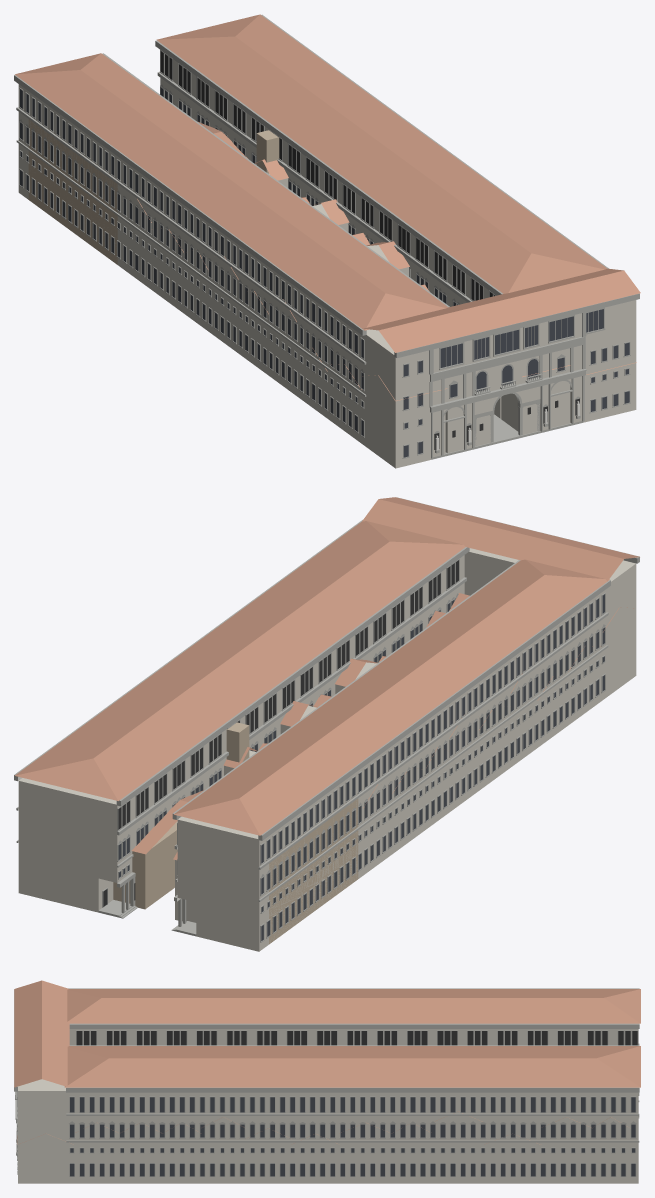
The model's file is uffizi.glb.
The picture shows the model from 3 angles, top to bottom: view 1: azimuth 30°, elevation 25°; view 2: azimuth 150°, elevation 25°; view 3: azimuth 270°, elevation 25°; orthographic projection. The views are drawn at different scales.
Parts seen in each view (by area): view 1: east_top@1580-99999.roof, west_top@1580-99999.roof, west@1565-99999.plaster, arno@1565-99999.plaster, west@1565-99999.stone, west_top@1580-99999.stone, arno_top@1580-99999.roof, east_top@1580-99999.stone, arno@1565-99999.stone, west@1565-99999.glass, old_quarter@1100-1560.rubble, west_top@1580-99999.plaster (+12 smaller); view 2: east_top@1580-99999.roof, west_top@1580-99999.roof, west@1565-99999.plaster, east@1572-99999.plaster, west@1565-99999.stone, west_top@1580-99999.stone, old_quarter@1100-1560.rubble, east_top@1580-99999.stone, arno_top@1580-99999.roof, west_top@1580-99999.plaster, west@1565-99999.glass, east_top@1580-99999.plaster (+8 smaller); view 3: east@1572-99999.plaster, east_top@1580-99999.roof, west_top@1580-99999.roof, east@1572-99999.stone, east@1572-99999.glass, east_top@1580-99999.stone, east_top@1580-99999.plaster, west_top@1580-99999.stone, arno_top@1580-99999.roof, west_top@1580-99999.dark, east_top@1580-99999.glass, west_top@1580-99999.plaster (+2 smaller).
Boxes of the visible parts, x1,y1,x2,y2 form: east_top@1580-99999.roof: (156, 14, 606, 293); west_top@1580-99999.roof: (15, 53, 448, 330); west@1565-99999.plaster: (18, 112, 365, 446); arno@1565-99999.plaster: (366, 327, 636, 468); west@1565-99999.stone: (16, 119, 366, 437); west_top@1580-99999.stone: (14, 53, 449, 364); arno_top@1580-99999.roof: (362, 268, 640, 352); east_top@1580-99999.stone: (155, 14, 608, 302); arno@1565-99999.stone: (402, 336, 630, 459); west@1565-99999.glass: (20, 122, 363, 435); old_quarter@1100-1560.rubble: (28, 115, 279, 264); west_top@1580-99999.plaster: (18, 84, 378, 361); east_top@1580-99999.roof: (15, 521, 465, 800); west_top@1580-99999.roof: (174, 559, 609, 835); west@1565-99999.plaster: (177, 617, 606, 951); east@1572-99999.plaster: (18, 583, 464, 912); west@1565-99999.stone: (171, 624, 608, 942); west_top@1580-99999.stone: (172, 560, 610, 869); old_quarter@1100-1560.rubble: (113, 722, 358, 944); east_top@1580-99999.stone: (14, 520, 469, 835); arno_top@1580-99999.roof: (362, 497, 639, 581); west_top@1580-99999.plaster: (177, 589, 606, 868); west@1565-99999.glass: (261, 627, 604, 940); east_top@1580-99999.plaster: (18, 555, 464, 834); east@1572-99999.plaster: (67, 1116, 638, 1183); east_top@1580-99999.roof: (64, 1046, 640, 1087); west_top@1580-99999.roof: (67, 989, 640, 1023); east@1572-99999.stone: (66, 1100, 639, 1176); east@1572-99999.glass: (70, 1124, 635, 1176); east_top@1580-99999.stone: (66, 1045, 639, 1115); east_top@1580-99999.plaster: (67, 1092, 638, 1113); west_top@1580-99999.stone: (68, 988, 639, 1045); arno_top@1580-99999.roof: (14, 980, 69, 1087); west_top@1580-99999.dark: (76, 1031, 637, 1045); east_top@1580-99999.glass: (70, 1097, 635, 1112); west_top@1580-99999.plaster: (69, 1029, 638, 1045).
Bounding box in the file's own units: 57.8 × 28.5 × 154.
